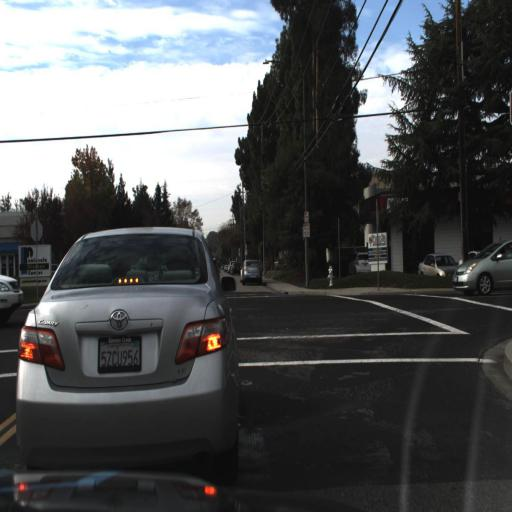car: (12, 226, 242, 477), (451, 238, 510, 295), (0, 260, 25, 324), (417, 250, 459, 282), (347, 246, 377, 280), (236, 252, 263, 288)
